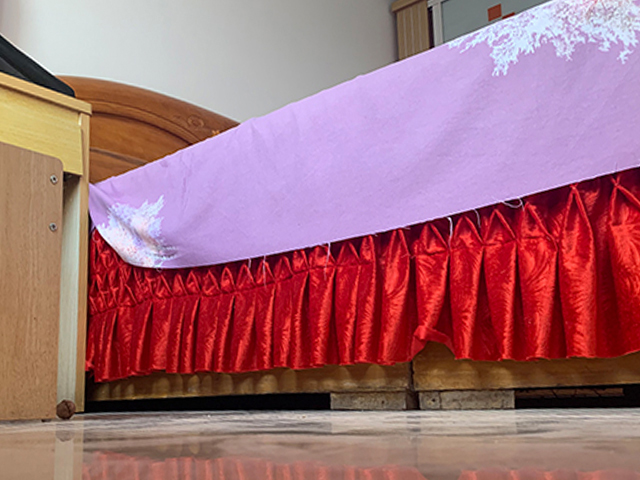bed: (57, 1, 640, 410)
